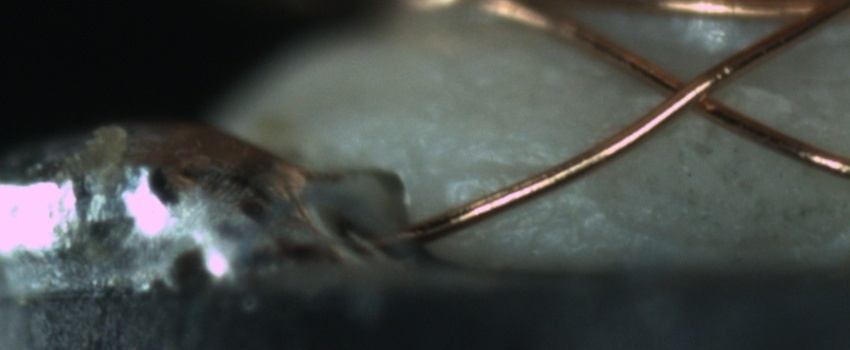CL: (643, 60, 727, 122)
DL: (450, 135, 586, 195)
